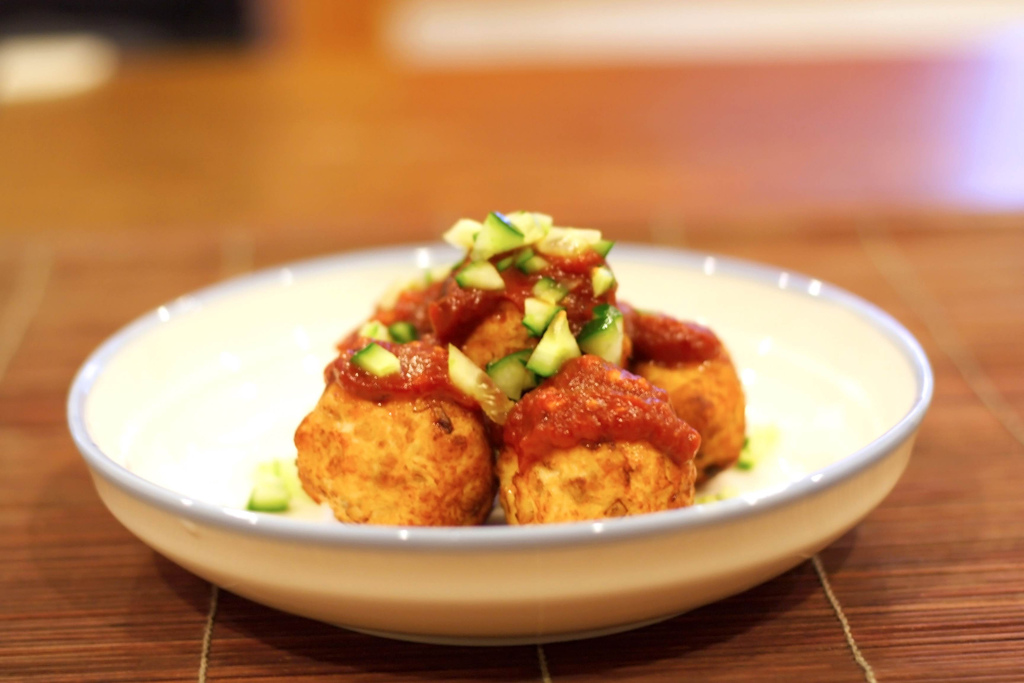meatballs: (320, 254, 741, 527)
